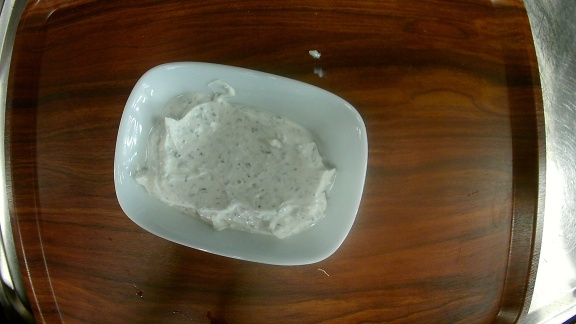haydari: (114, 61, 369, 265)
